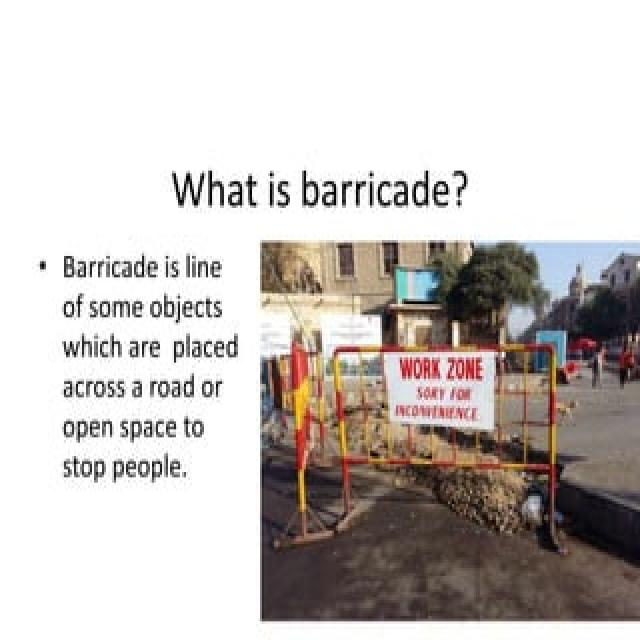cone: (264, 338, 564, 554)
